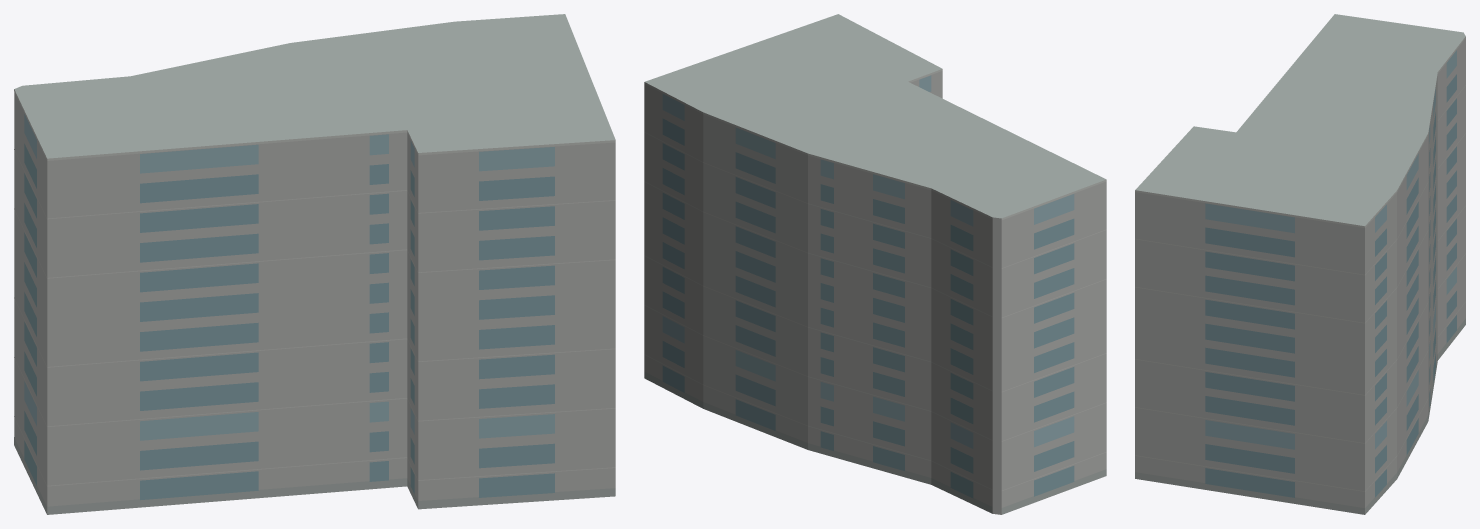
File: survey-upis-32910598.glb
3 views of the same model, side by side, from view 1: azimuth 30°, elevation 25°; view 2: azimuth 150°, elevation 25°; view 3: azimuth 270°, elevation 25° (orthographic). The views are drawn at different scales.
Visible parts, largest first — view 1: survey-upis-32910598.tmp; view 2: survey-upis-32910598.tmp; view 3: survey-upis-32910598.tmp.
Part boxes in pixels (x1=…): survey-upis-32910598.tmp: x1=14, y1=14, x2=615, y2=514; survey-upis-32910598.tmp: x1=644, y1=14, x2=1106, y2=514; survey-upis-32910598.tmp: x1=1135, y1=14, x2=1465, y2=514.
Size of the model in its own units: 57.73 by 36.6 by 38.02.
